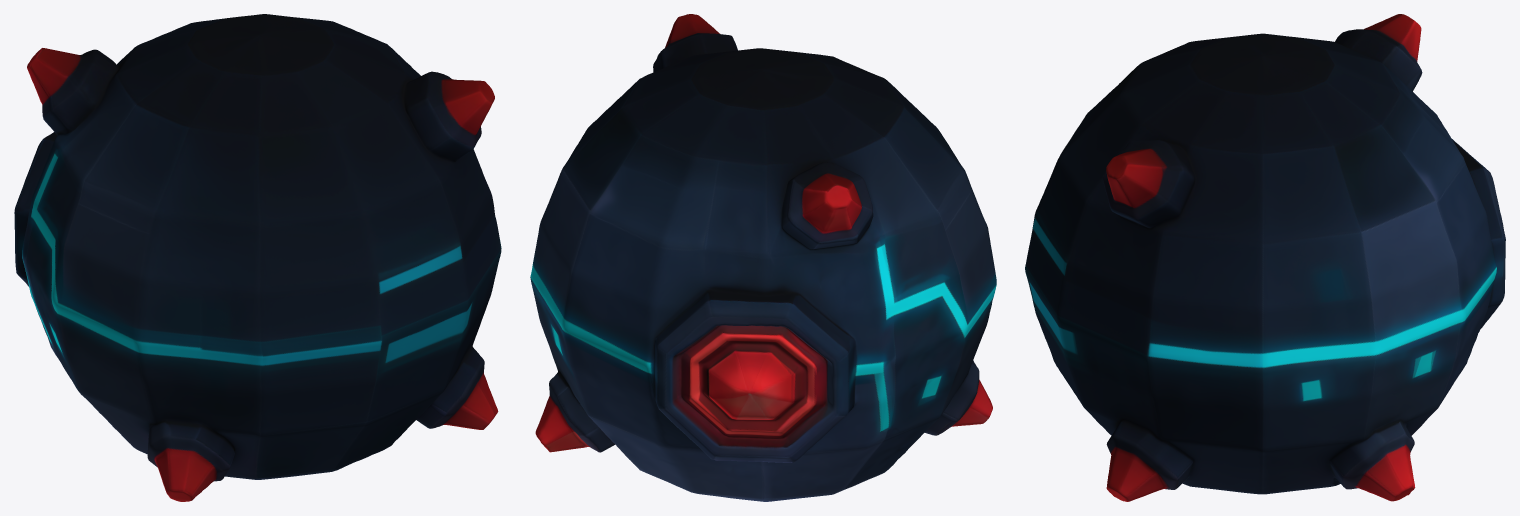
Rendered from bomb.fbx.
3 renders of one model, left to right at view 1: azimuth 30°, elevation 25°; view 2: azimuth 150°, elevation 25°; view 3: azimuth 270°, elevation 25°, orthographic. The views are drawn at different scales.
Parts seen in each view (by area): view 1: model.001; view 2: model.001; view 3: model.001.
Boxes of the visible parts, x1,y1,x2,y2 form: model.001: (14,14,501,501); model.001: (530,14,996,501); model.001: (1025,14,1505,501).
Bounding box in the file's own units: 19.59 × 19.04 × 19.88.
Materials: 1 (1 with a texture image).
